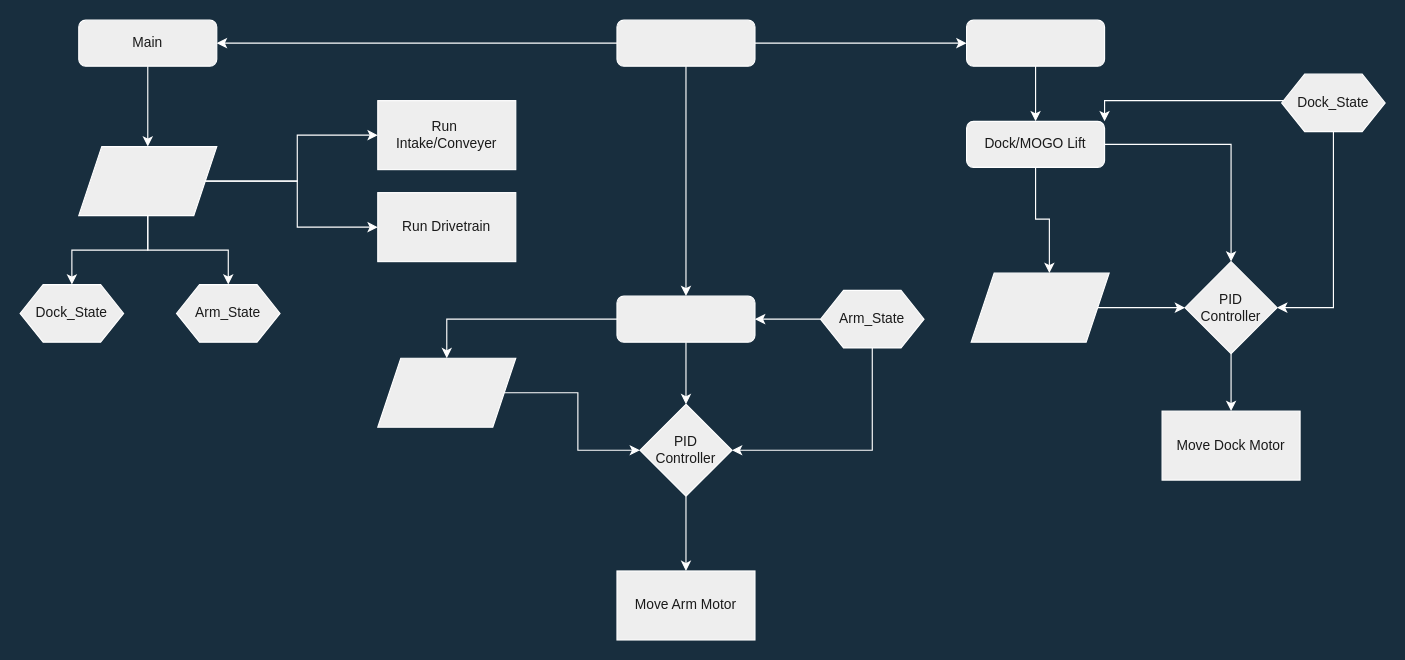
Some shapes in this 1405 by 660 pixel diagram are drawn without their labels. Here are the shapes that lost their labels. From the top down, the centre of each, then its label:
point (685, 42): System Tasker
point (1035, 42): Dock/Mogo Lifter
point (147, 180): Get Controller Input
point (685, 318): Arm/Mogo Dragger
point (1039, 307): Get Dock Position
point (446, 392): Get Arm Position
